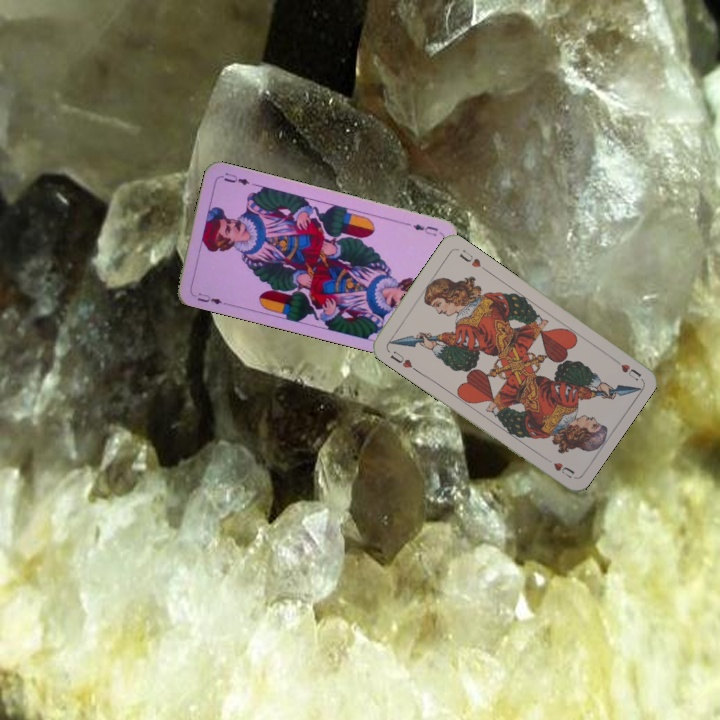EU: (188, 289, 224, 307), (409, 220, 440, 239)
HU: (608, 353, 644, 383), (386, 347, 415, 371)
